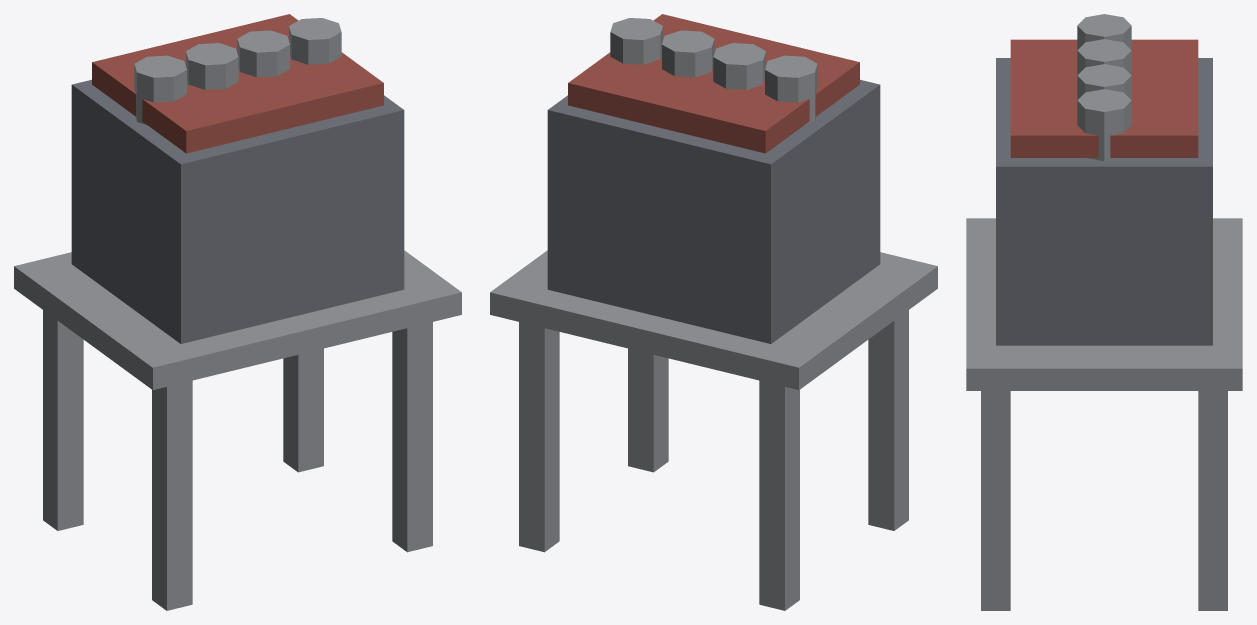
Rendered from engine_block.glb.
3 renders of one model, left to right at view 1: azimuth 30°, elevation 25°; view 2: azimuth 150°, elevation 25°; view 3: azimuth 270°, elevation 25°, orthographic.
Parts seen in each view (by area): view 1: engine_block; view 2: engine_block; view 3: engine_block.
Part boxes in pixels (x1,y1,x2,y2): engine_block: (14, 14, 461, 610); engine_block: (490, 14, 937, 610); engine_block: (966, 14, 1242, 610).
Bounding box in the file's own units: 0.72 × 1.08 × 0.56.
